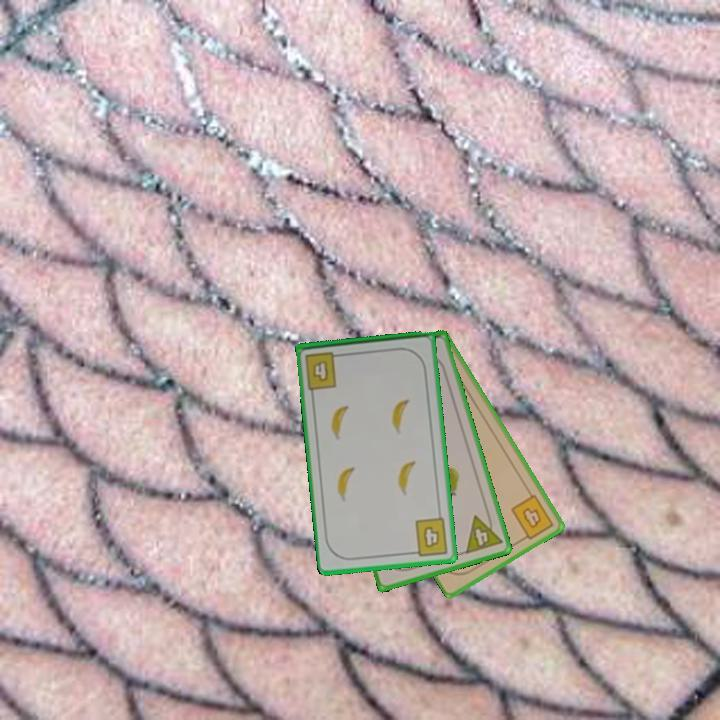4b: (507, 491, 557, 544), (407, 514, 451, 559), (301, 348, 346, 392)
4p: (462, 508, 505, 557)
